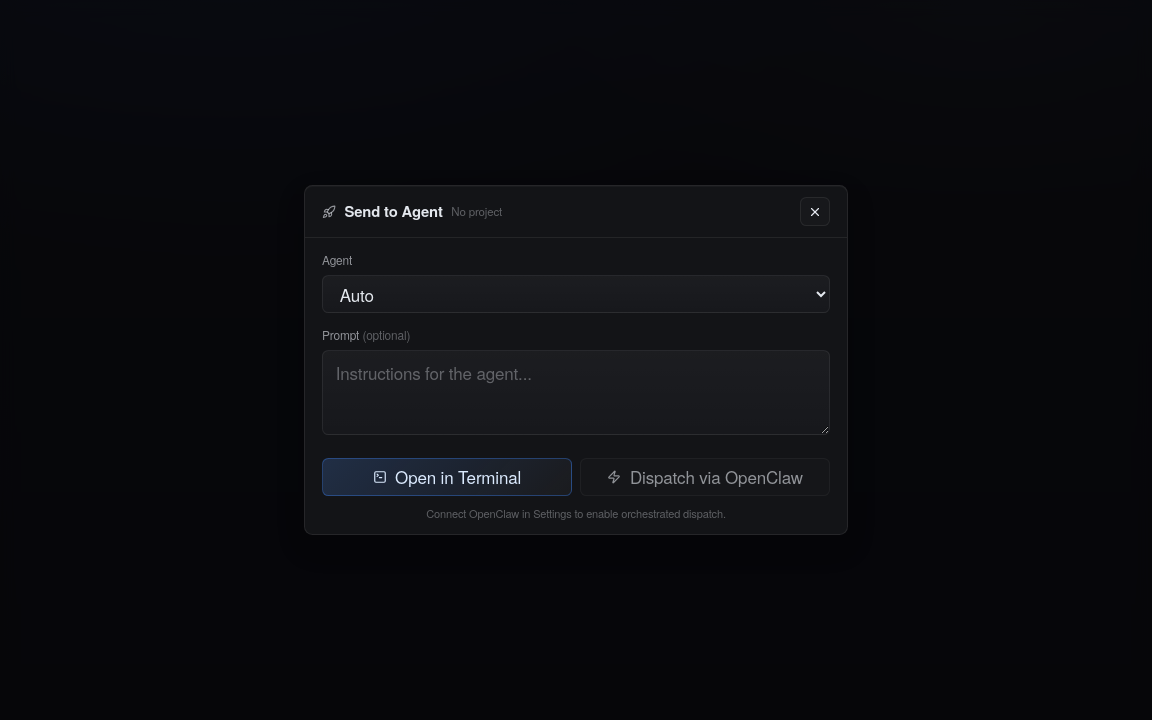
Test case: DispatchModal › surfaces a validation error when no project is selected
Expected: the dropdown labelled "Agent" is shown, [322,275,830,313]
What coordinates should you click on to do the following:
click the button "Open in Terminal"
I would click on:
 (447, 477)
Its box is [322,458,572,496].
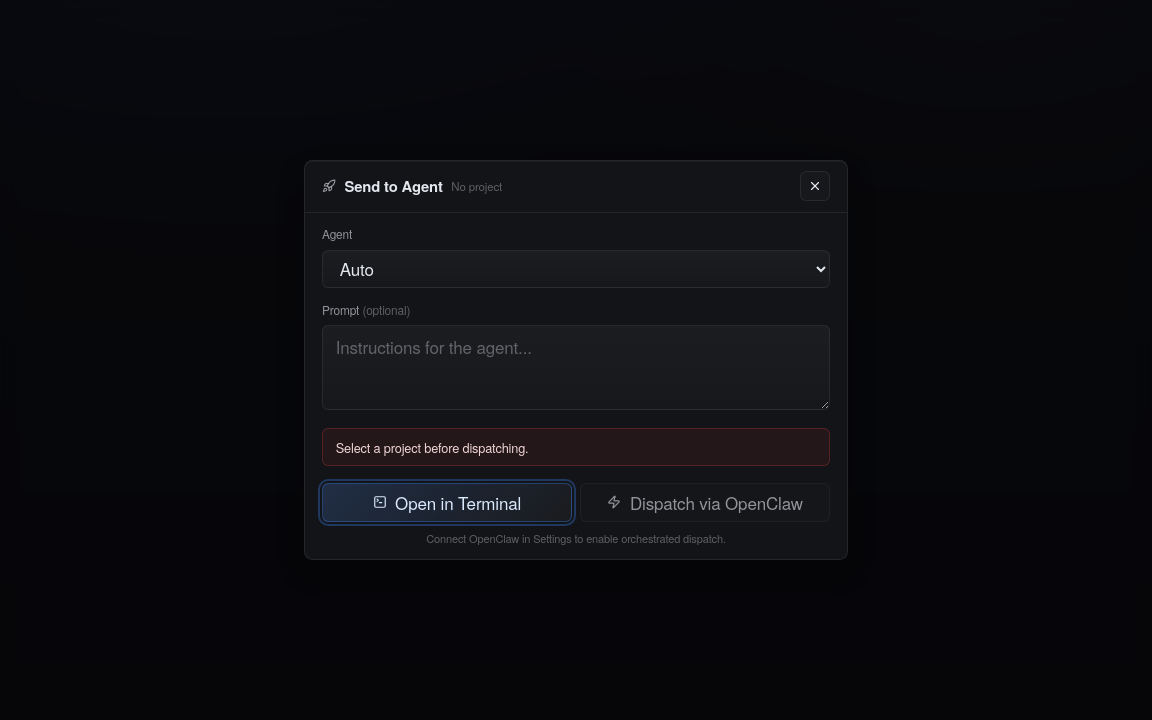
Expected: the message reads "Select a project before dispatching.", [336,438,528,457]
